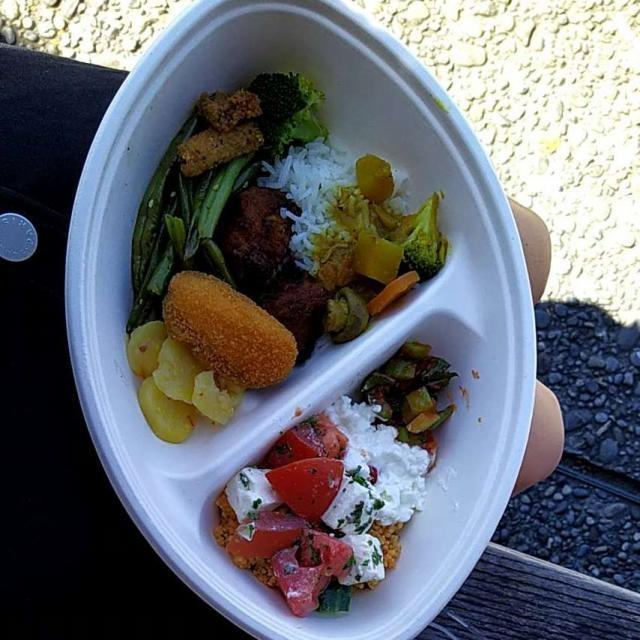beans: (137, 100, 270, 308)
cheese: (329, 404, 432, 518)
curry-vegetarian: (325, 148, 446, 337)
mixed-vegetables: (220, 71, 463, 448)
potatoes: (121, 324, 262, 438)
rice: (261, 135, 360, 279)
salad: (225, 412, 377, 611)
